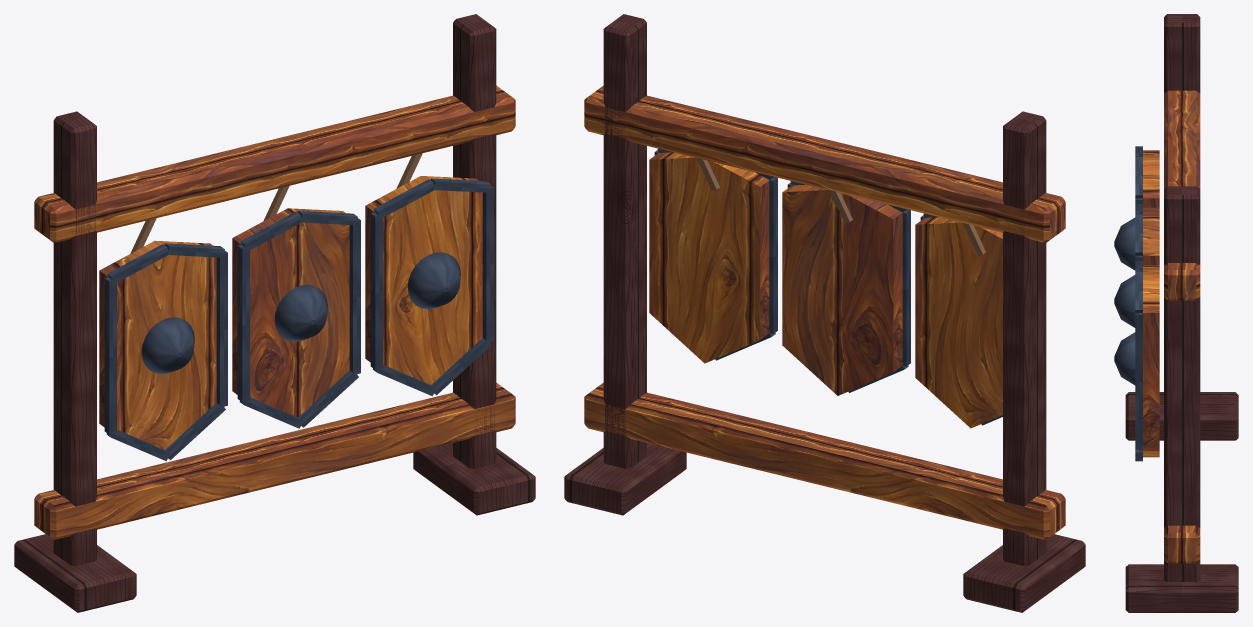
File: Shield_Rack.fbx
The picture shows the model from 3 angles, left to right: view 1: azimuth 30°, elevation 25°; view 2: azimuth 150°, elevation 25°; view 3: azimuth 270°, elevation 25°; orthographic projection. The views are drawn at different scales.
Visible parts, largest first — view 1: Rack support rail, Rack support rail.001, Rack upright, Solid curved shield board, Solid curved shield board.001, Solid curved shield board.002, Rack upright.001, Rack braced foot, Rack braced foot.001, Shield boss, Shield boss.002, Shield boss.001 (+12 smaller); view 2: Rack support rail.001, Rack support rail, Solid curved shield board.001, Solid curved shield board.002, Rack upright.001, Rack upright, Solid curved shield board, Rack braced foot, Rack braced foot.001, Shield bound metal rim.011, Shield bound metal rim.017; view 3: Rack upright.001, Rack support rail.001, Rack braced foot.001, Solid curved shield board.002, Rack upright, Rack braced foot, Rack support rail, Shield bound metal rim.014, Solid curved shield board.001, Solid curved shield board, Shield boss, Shield boss.002 (+4 smaller).
Part boxes in pixels (left/top/right/bottom): Rack support rail: left=34, top=382, right=515, bottom=539; Rack support rail.001: left=34, top=85, right=515, bottom=242; Rack upright: left=53, top=111, right=96, bottom=566; Solid curved shield board: left=99, top=240, right=216, bottom=449; Solid curved shield board.001: left=232, top=208, right=349, bottom=417; Solid curved shield board.002: left=365, top=176, right=482, bottom=384; Rack upright.001: left=453, top=14, right=496, bottom=468; Rack braced foot: left=14, top=534, right=136, bottom=612; Rack braced foot.001: left=413, top=443, right=535, bottom=515; Shield boss: left=141, top=317, right=194, bottom=374; Shield boss.002: left=407, top=252, right=460, bottom=309; Shield boss.001: left=274, top=284, right=327, bottom=341; Rack support rail.001: left=584, top=85, right=1065, bottom=242; Rack support rail: left=584, top=382, right=1065, bottom=539; Solid curved shield board.001: left=782, top=184, right=902, bottom=395; Solid curved shield board.002: left=649, top=152, right=769, bottom=363; Rack upright.001: left=603, top=14, right=646, bottom=468; Rack upright: left=1003, top=111, right=1046, bottom=566; Solid curved shield board: left=915, top=217, right=1002, bottom=428; Rack braced foot: left=963, top=534, right=1085, bottom=612; Rack braced foot.001: left=564, top=443, right=686, bottom=515; Shield bound metal rim.011: left=902, top=209, right=910, bottom=366; Shield bound metal rim.017: left=769, top=177, right=777, bottom=333; Rack upright.001: left=1164, top=186, right=1200, bottom=581; Rack support rail.001: left=1164, top=90, right=1200, bottom=300; Rack braced foot.001: left=1125, top=564, right=1238, bottom=612; Solid curved shield board.002: left=1143, top=265, right=1159, bottom=457; Rack upright: left=1164, top=14, right=1200, bottom=92; Rack braced foot: left=1125, top=392, right=1238, bottom=440; Rack support rail: left=1164, top=525, right=1200, bottom=563; Shield bound metal rim.014: left=1135, top=313, right=1142, bottom=449; Solid curved shield board.001: left=1143, top=207, right=1159, bottom=265; Solid curved shield board: left=1143, top=150, right=1159, bottom=207; Shield boss: left=1114, top=217, right=1135, bottom=270; Shield boss.002: left=1114, top=332, right=1135, bottom=385.
Bounding box in the file's own units: 210 × 200 × 55.
